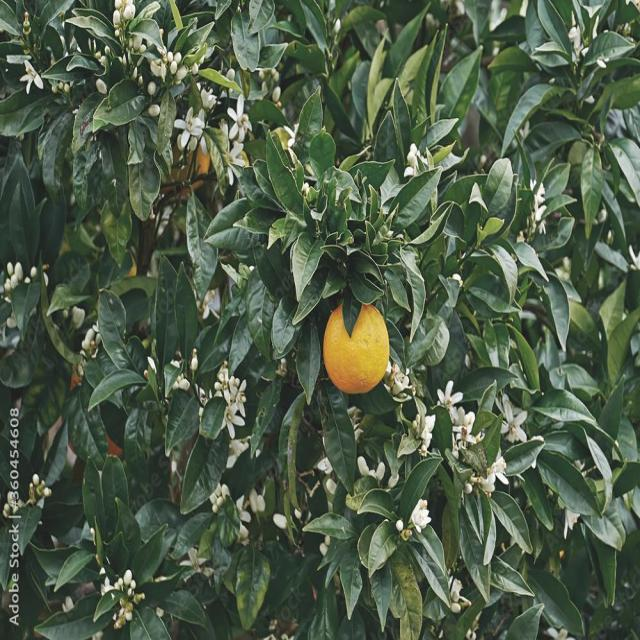Bunga: (497, 396, 529, 446), (228, 92, 254, 142), (174, 108, 204, 148), (436, 378, 462, 421), (218, 400, 245, 440), (452, 412, 478, 450), (390, 366, 416, 402), (19, 60, 44, 94), (226, 142, 245, 185), (528, 176, 546, 220), (214, 373, 240, 403), (412, 495, 431, 535), (492, 446, 510, 486), (180, 546, 206, 572), (82, 322, 100, 355), (234, 378, 248, 418), (420, 414, 436, 448), (234, 494, 252, 523), (200, 88, 218, 110), (355, 454, 371, 478), (72, 303, 84, 328), (272, 512, 288, 530), (190, 349, 200, 372), (256, 493, 266, 515), (14, 262, 24, 280), (212, 478, 222, 496), (221, 484, 231, 501), (376, 463, 386, 480), (96, 80, 108, 94), (148, 104, 160, 118), (407, 150, 417, 166), (10, 275, 19, 292), (189, 136, 198, 152), (124, 568, 132, 586), (226, 68, 236, 82), (418, 446, 429, 458), (147, 82, 157, 95), (178, 380, 191, 390), (320, 542, 328, 557), (124, 6, 131, 22), (31, 474, 40, 486), (216, 496, 225, 508), (170, 61, 178, 74), (464, 483, 474, 493), (124, 609, 133, 620), (23, 12, 30, 26), (539, 222, 546, 236), (114, 10, 120, 26), (130, 4, 136, 20), (174, 52, 182, 64), (8, 260, 14, 276), (62, 307, 70, 318), (410, 142, 418, 153), (192, 62, 198, 76), (30, 266, 37, 278), (105, 46, 111, 58), (4, 278, 10, 290), (51, 84, 58, 94), (64, 84, 71, 94), (115, 0, 122, 10), (115, 582, 122, 592), (396, 522, 403, 532), (58, 80, 64, 90), (130, 580, 136, 590), (212, 504, 218, 514), (118, 578, 124, 586), (416, 412, 420, 422), (200, 54, 203, 66), (168, 51, 172, 60), (413, 421, 418, 428)
Jeruk Sudah Matang: (323, 300, 391, 394)
